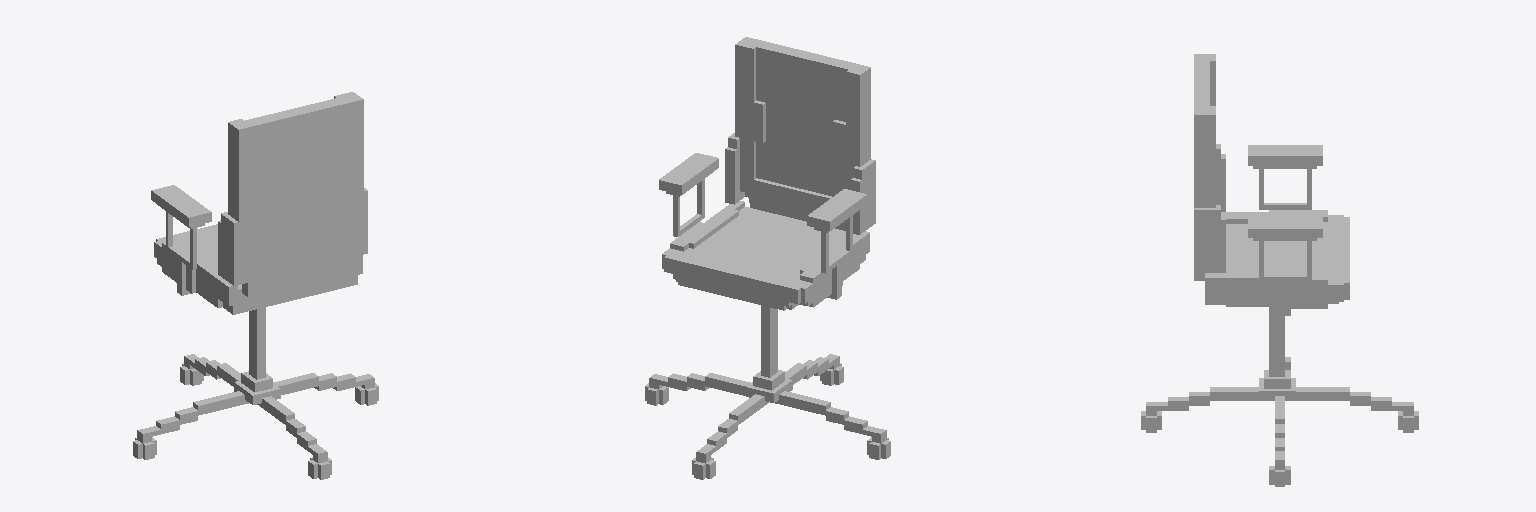
File: OfficeChair.obj
3 views of the same model, side by side, from view 1: azimuth 30°, elevation 25°; view 2: azimuth 150°, elevation 25°; view 3: azimuth 270°, elevation 25° (orthographic).
Parts seen in each view (by area): view 1: Untitled.003; view 2: Untitled.003; view 3: Untitled.003.
Boxes of the visible parts, x1=… form: Untitled.003: x1=133, y1=92, x2=378, y2=479; Untitled.003: x1=645, y1=37, x2=890, y2=479; Untitled.003: x1=1141, y1=54, x2=1418, y2=486.
Bounding box in the file's own units: 5.2 × 7.1 × 5.2.